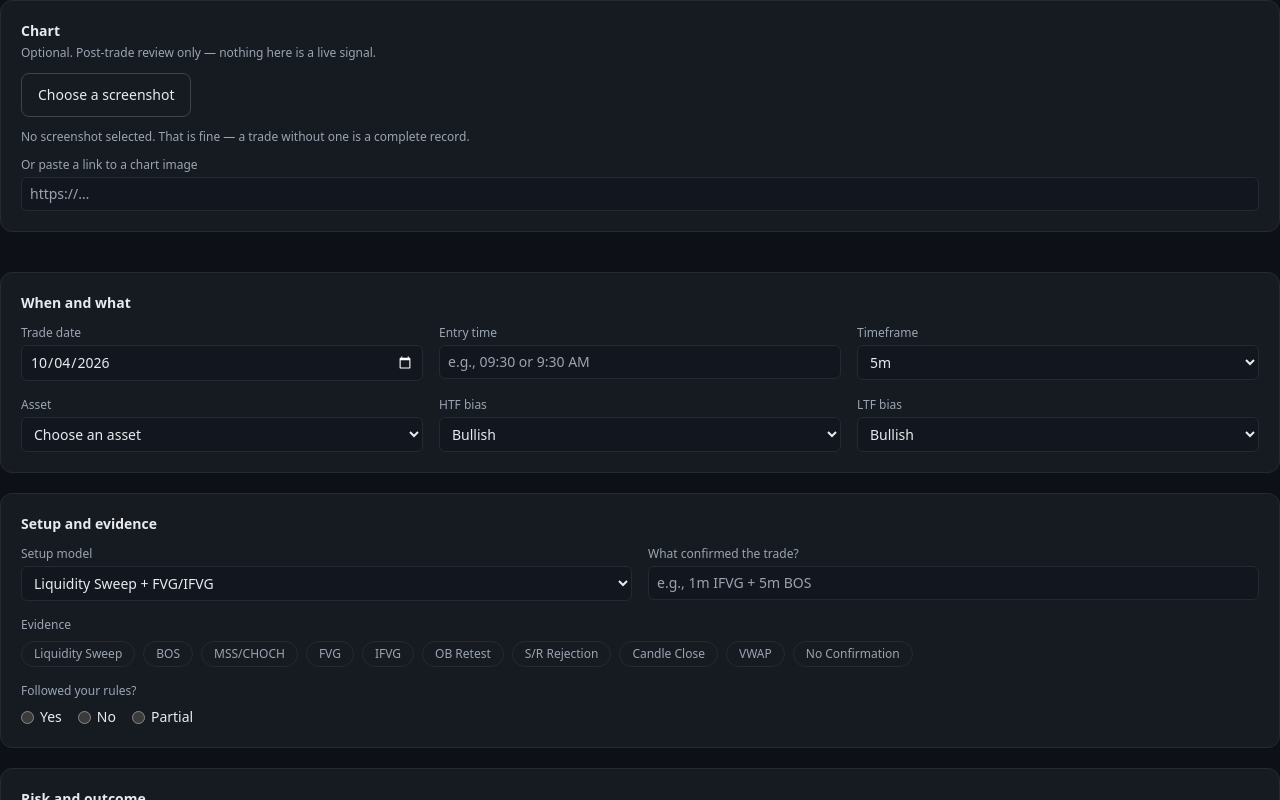
Scenario: NewTradeForm › shows a duplicate as 'already logged', not as an error, and creates nothing new
Select "NQ" in the dropdown labelled "Asset": (222, 434) [21,417,423,452]
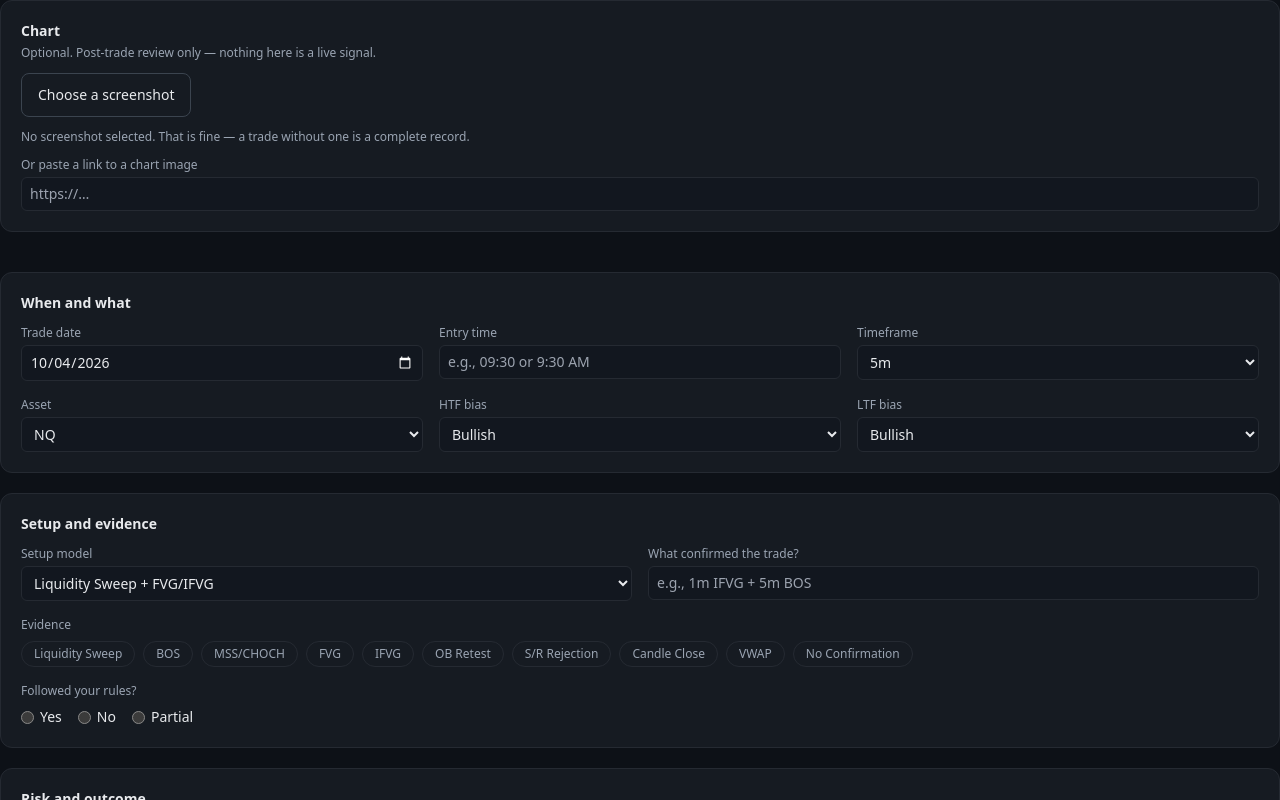
In the field with placeholder "e.g., 09:30 or 9:30 AM": (640, 362) [439,345,841,379], type "09:30"
(page scrolled)
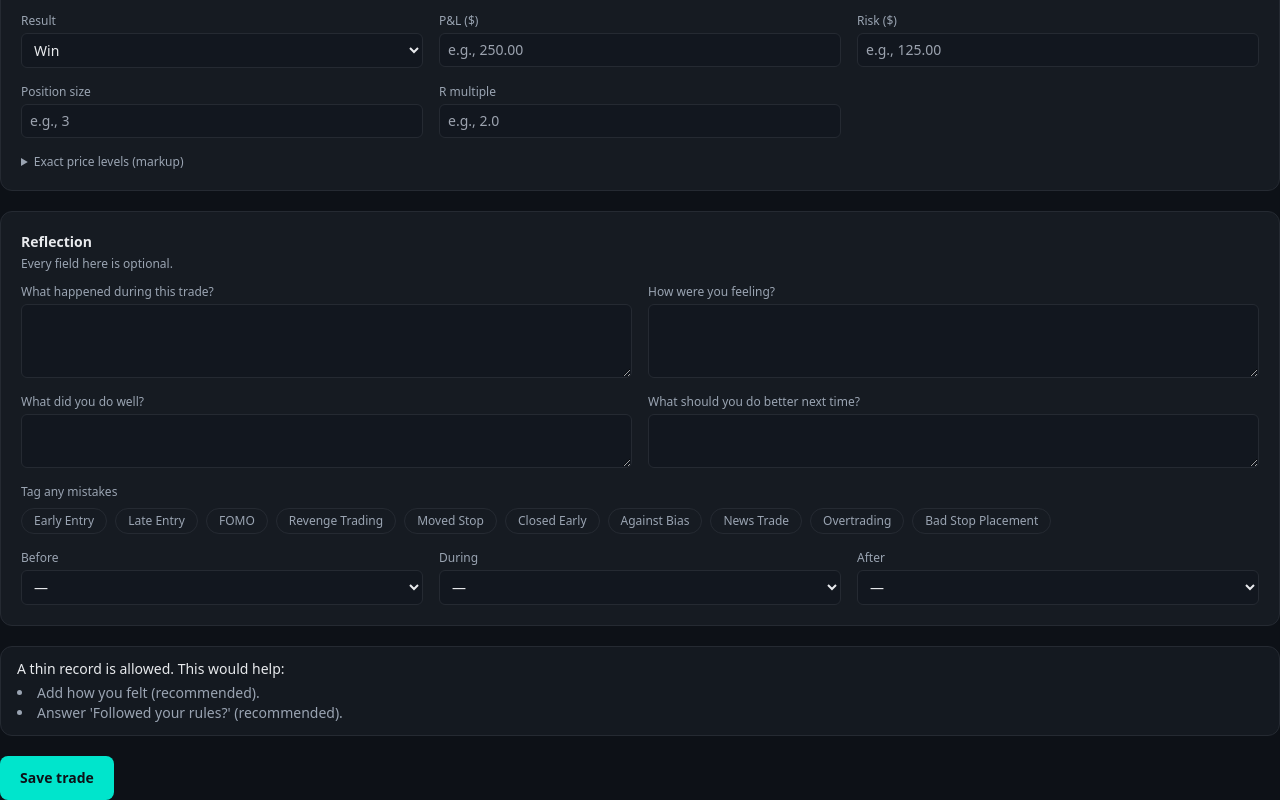
Click the button "Save trade": click(57, 778) [0,756,114,799]
(page scrolled)
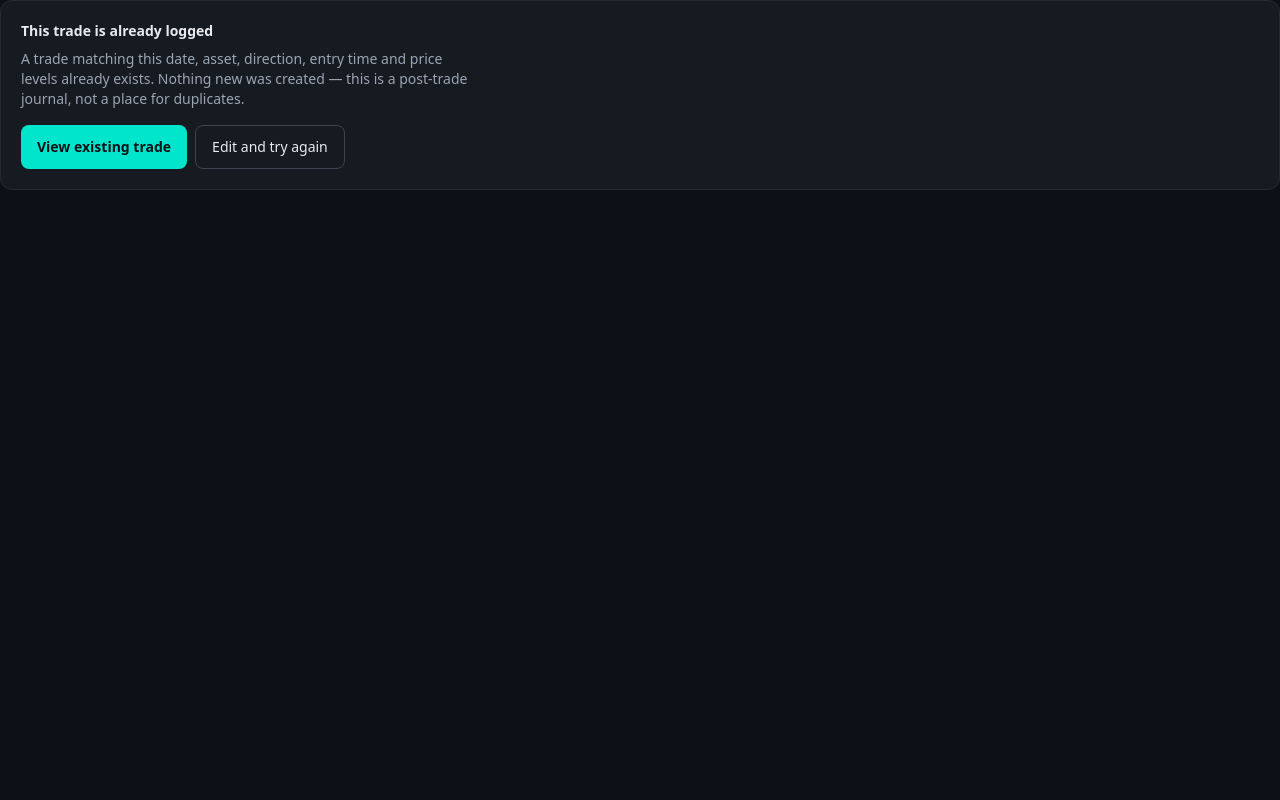
Expected: the heading "This trade is already logged" is shown, [21,21,213,40]
